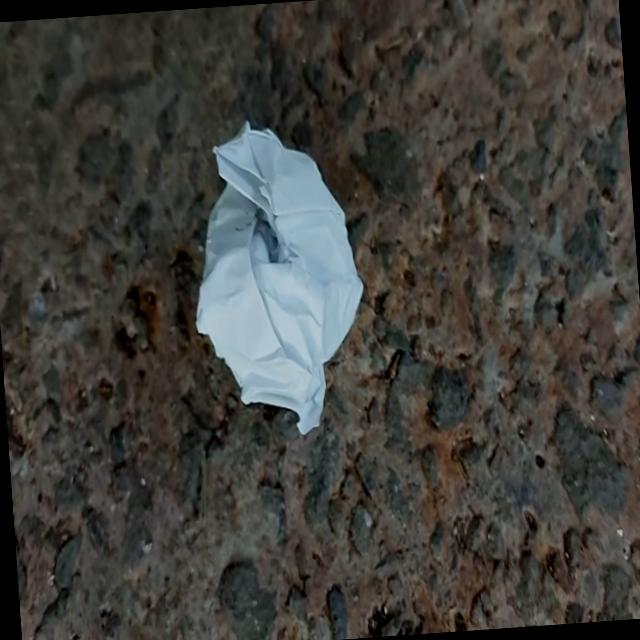paper: (170, 90, 387, 454)
